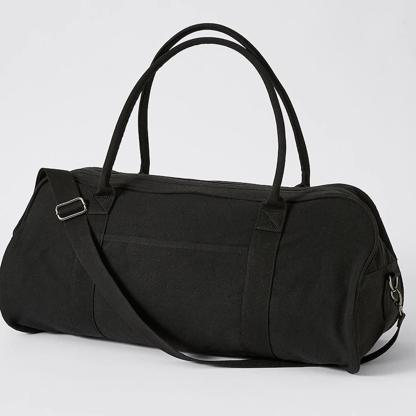not trash: (0, 18, 410, 377)
